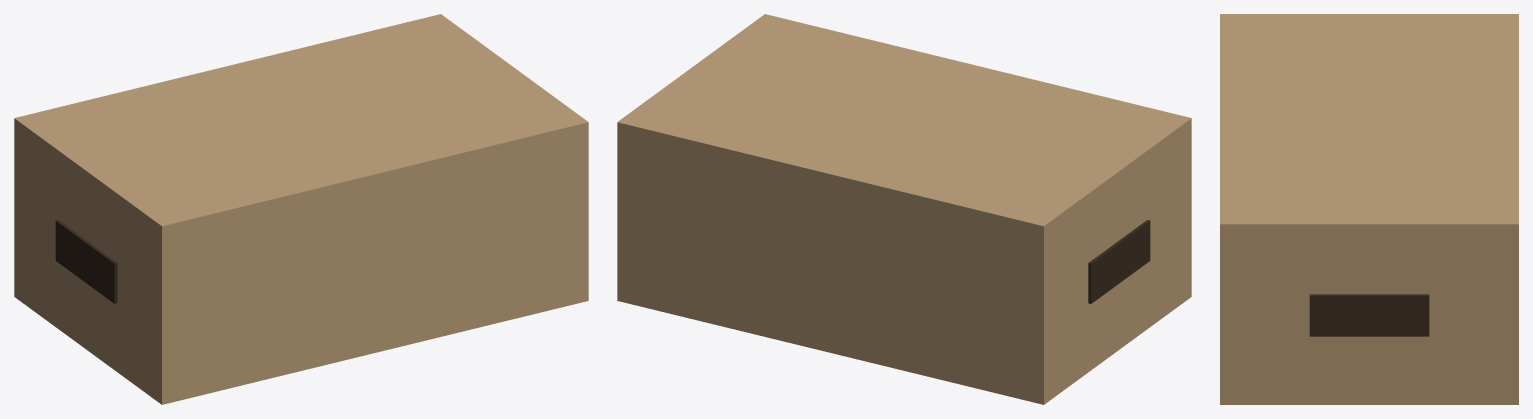
File: apple_box_full.glb
3 renders of one model, left to right at view 1: azimuth 30°, elevation 25°; view 2: azimuth 150°, elevation 25°; view 3: azimuth 270°, elevation 25°, orthographic.
Parts seen in each view (by area): view 1: AppleBox; view 2: AppleBox; view 3: AppleBox.
Part boxes in pixels (x1,y1,x2,y2): AppleBox: (14, 14, 588, 404); AppleBox: (617, 14, 1191, 404); AppleBox: (1220, 14, 1518, 404).
Size of the model in its own units: 0.507 by 0.2 by 0.3.
